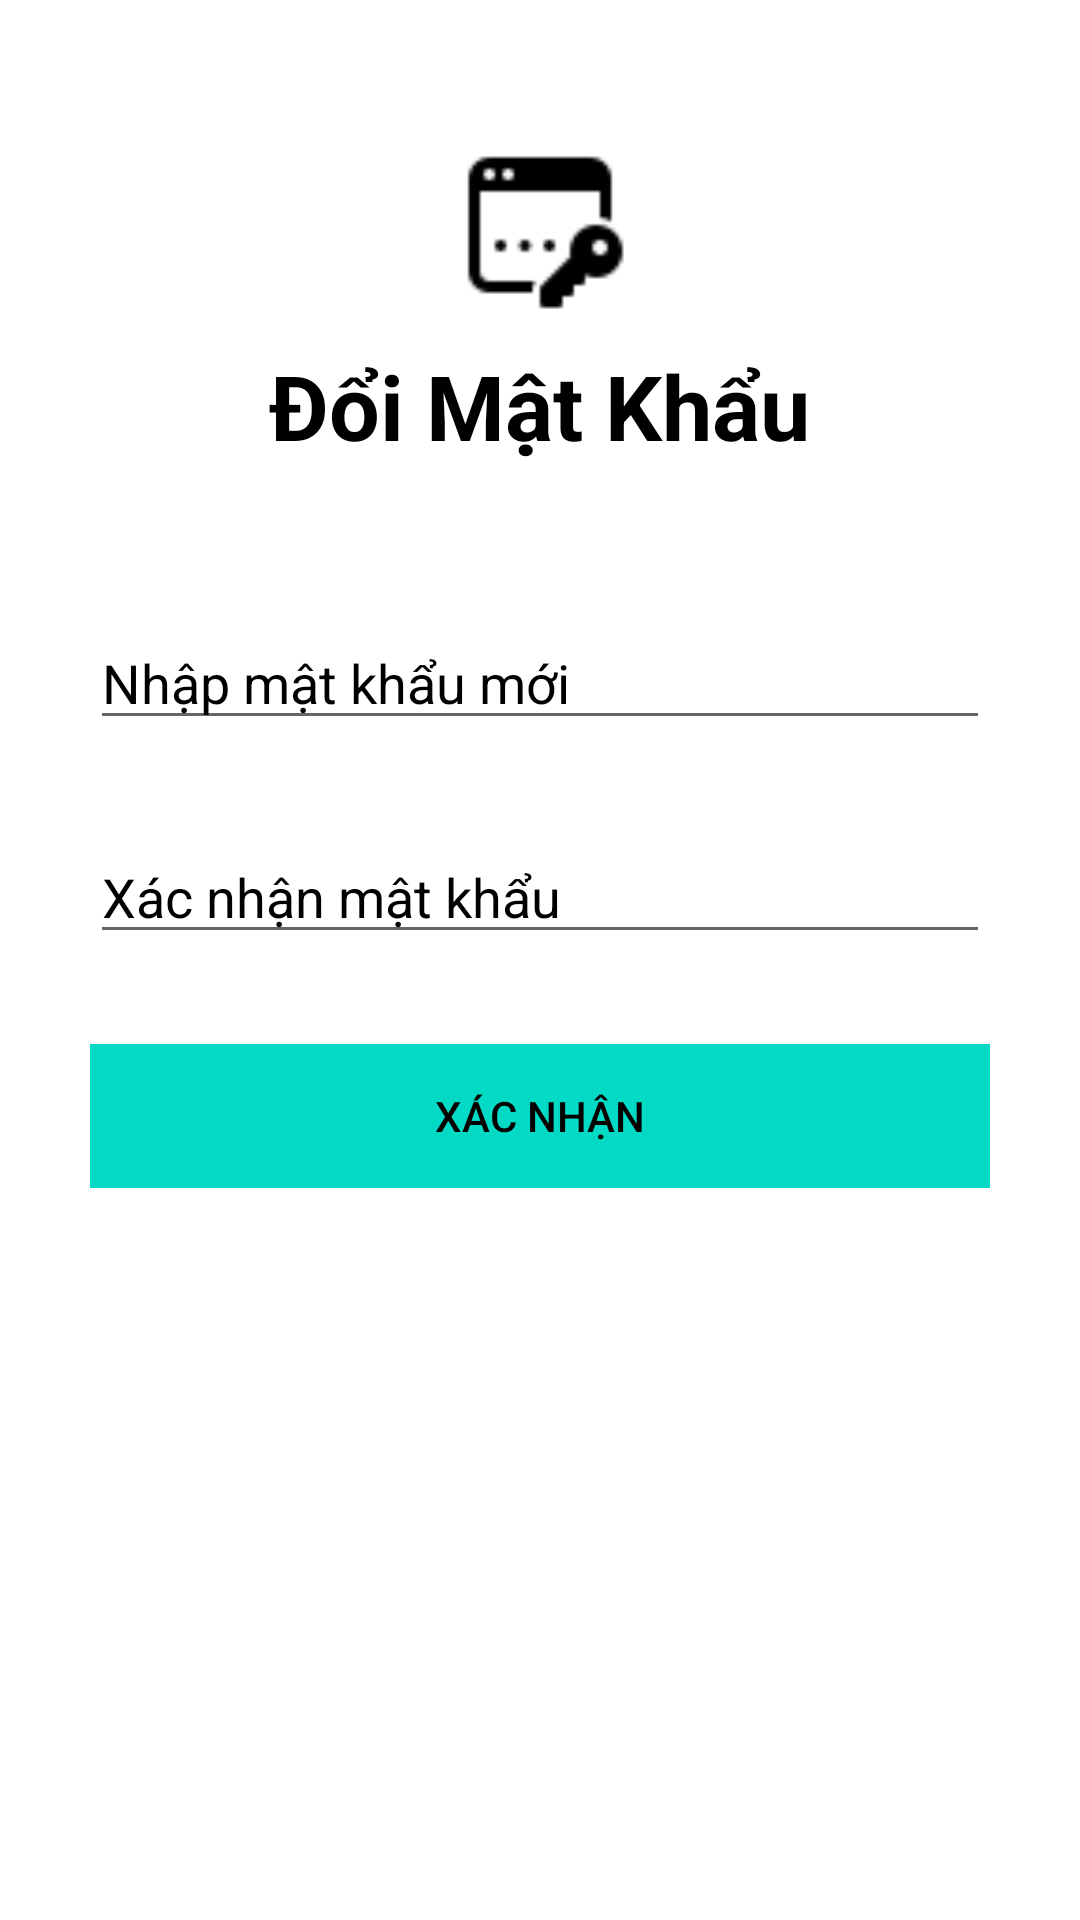

Icon click points for this 1080w x 1920h phone screenshot, format [x,y]:
updatepassword: [545,232]
